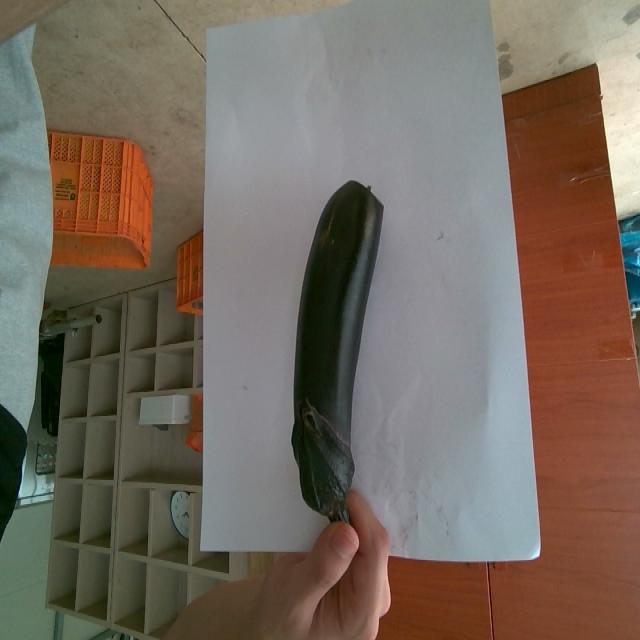Egg plant: (292, 183, 383, 521)
